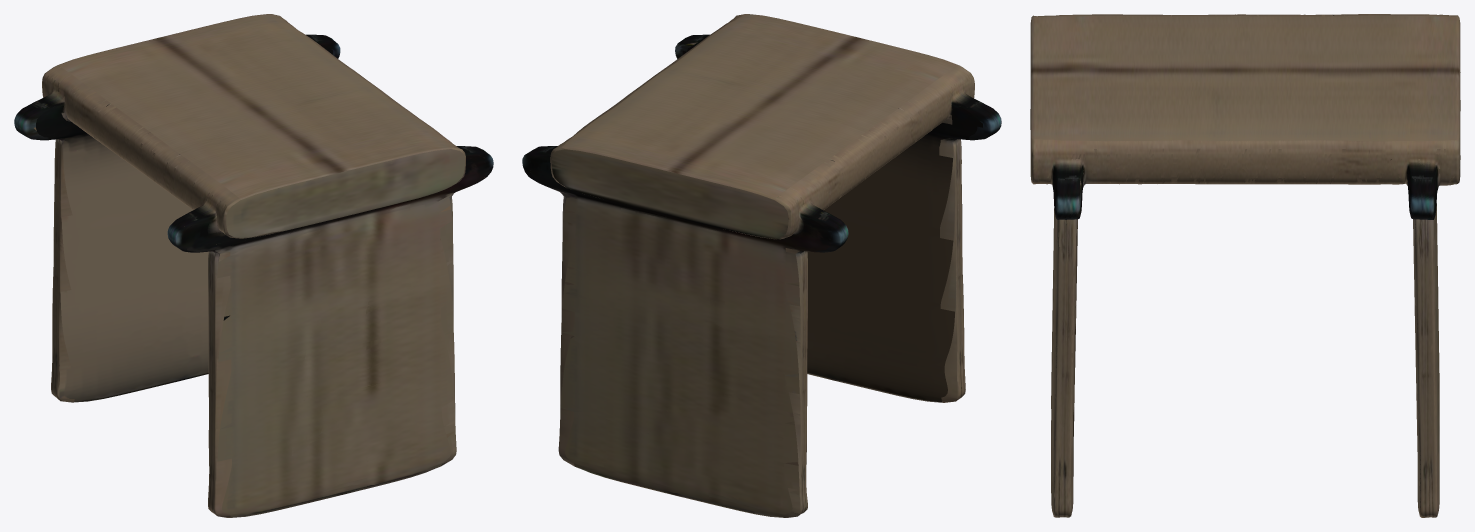
Rendered from stairs-handrail.glb.
3 renders of one model, left to right at view 1: azimuth 30°, elevation 25°; view 2: azimuth 150°, elevation 25°; view 3: azimuth 270°, elevation 25°, orthographic. The views are drawn at different scales.
Parts seen in each view (by area): view 1: tmp743u5zc7.ply; view 2: tmp743u5zc7.ply; view 3: tmp743u5zc7.ply.
Part boxes in pixels (x1,y1,x2,y2): tmp743u5zc7.ply: (14,14,493,517); tmp743u5zc7.ply: (522,14,1001,517); tmp743u5zc7.ply: (1030,14,1460,517).
Bounding box in the file's own units: 1 × 1 × 1.
1 material, 1 textured.
